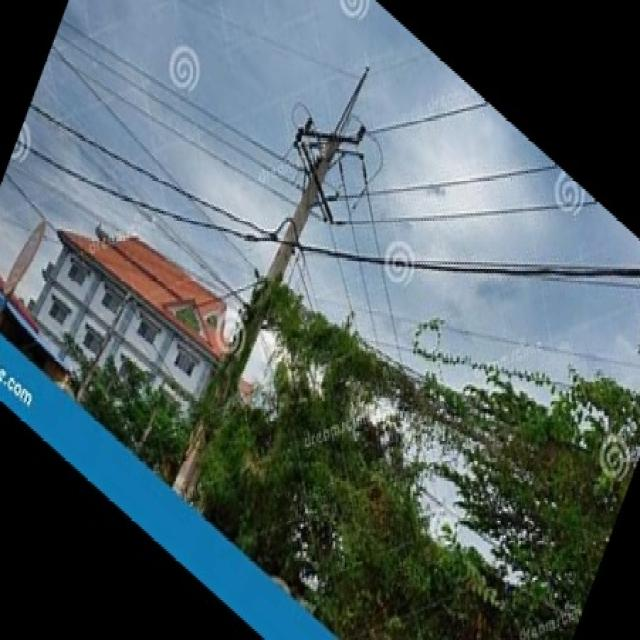critical vegetation: (261, 273, 634, 550)
